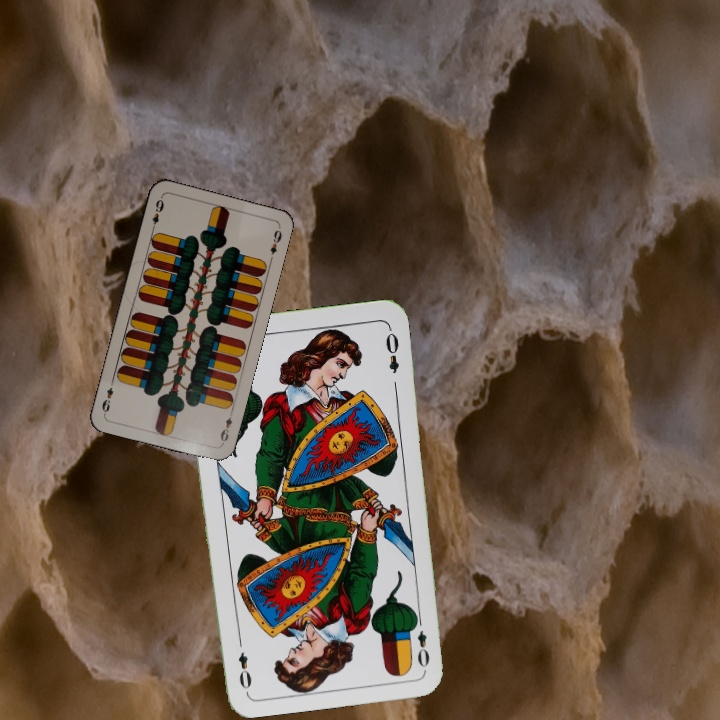E9: (216, 407, 235, 447), (148, 193, 166, 233)
EO: (409, 612, 432, 670)
